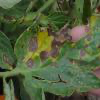Tomato Early blight leaf: (10, 22, 99, 98)
